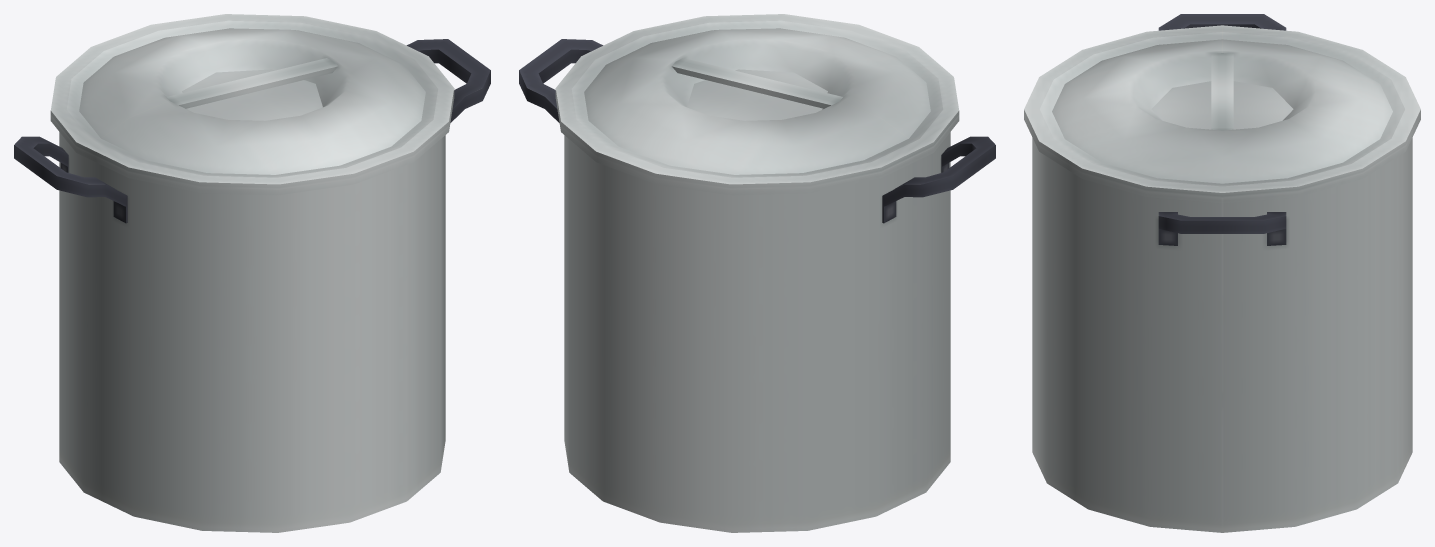
The model's file is jsf_Stockpot.fbx.
The picture shows the model from 3 angles, left to right: view 1: azimuth 30°, elevation 25°; view 2: azimuth 150°, elevation 25°; view 3: azimuth 270°, elevation 25°; orthographic projection. The views are drawn at different scales.
Parts seen in each view (by area): view 1: Body, Lid; view 2: Body, Lid; view 3: Body, Lid.
Part boxes in pixels (box(x1,y1,x2,y2)): Body: box(14, 39, 490, 532); Lid: box(50, 14, 454, 189); Body: box(519, 39, 995, 532); Lid: box(555, 14, 959, 189); Body: box(1024, 14, 1420, 532); Lid: box(1024, 25, 1420, 197).
Size of the model in its own units: 42.59 by 34.77 by 34.58.
